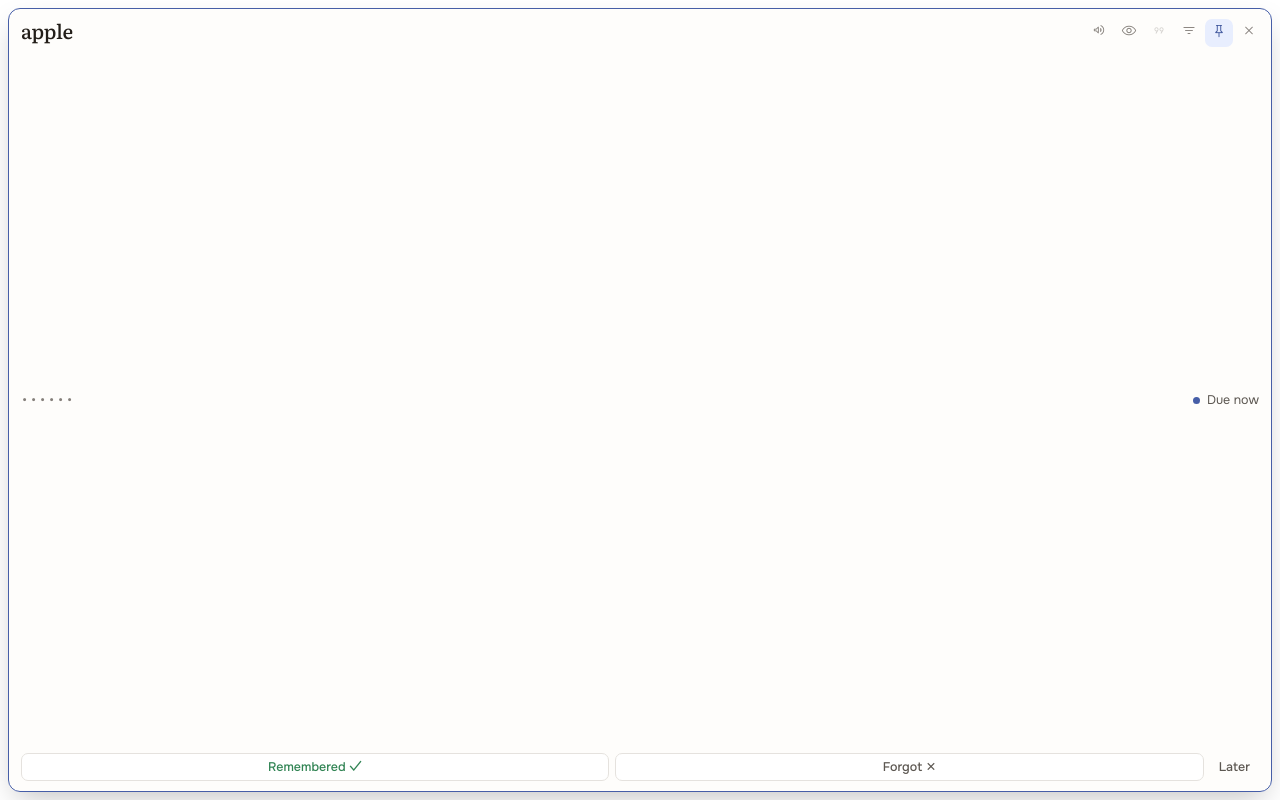
Test: StickerApp › opens a multi-select source filter on the sticker
Check: the text "apple" is shown, box x1=21 y1=19 x2=73 y2=45
What coordinates should you click on to do the following:
click the button named "Filter sticker sources"
I would click on:
 (1189, 33)
Its box is x1=1175 y1=19 x2=1203 y2=47.
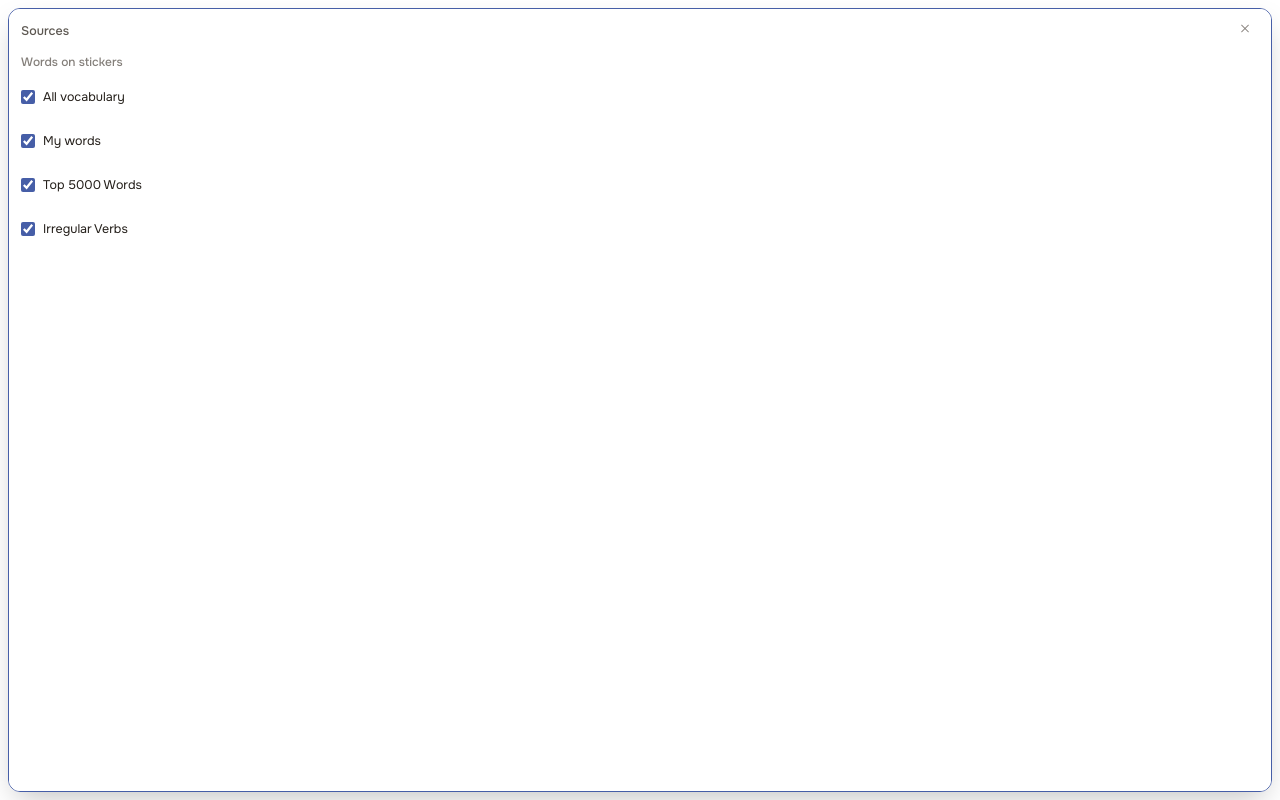
Check: the text "All vocabulary" is shown, box x1=43 y1=88 x2=125 y2=106
Check: the text "My words" is shown, box x1=43 y1=132 x2=101 y2=150
Check: the text "Top 5000 Words" is shown, box x1=43 y1=176 x2=142 y2=194
